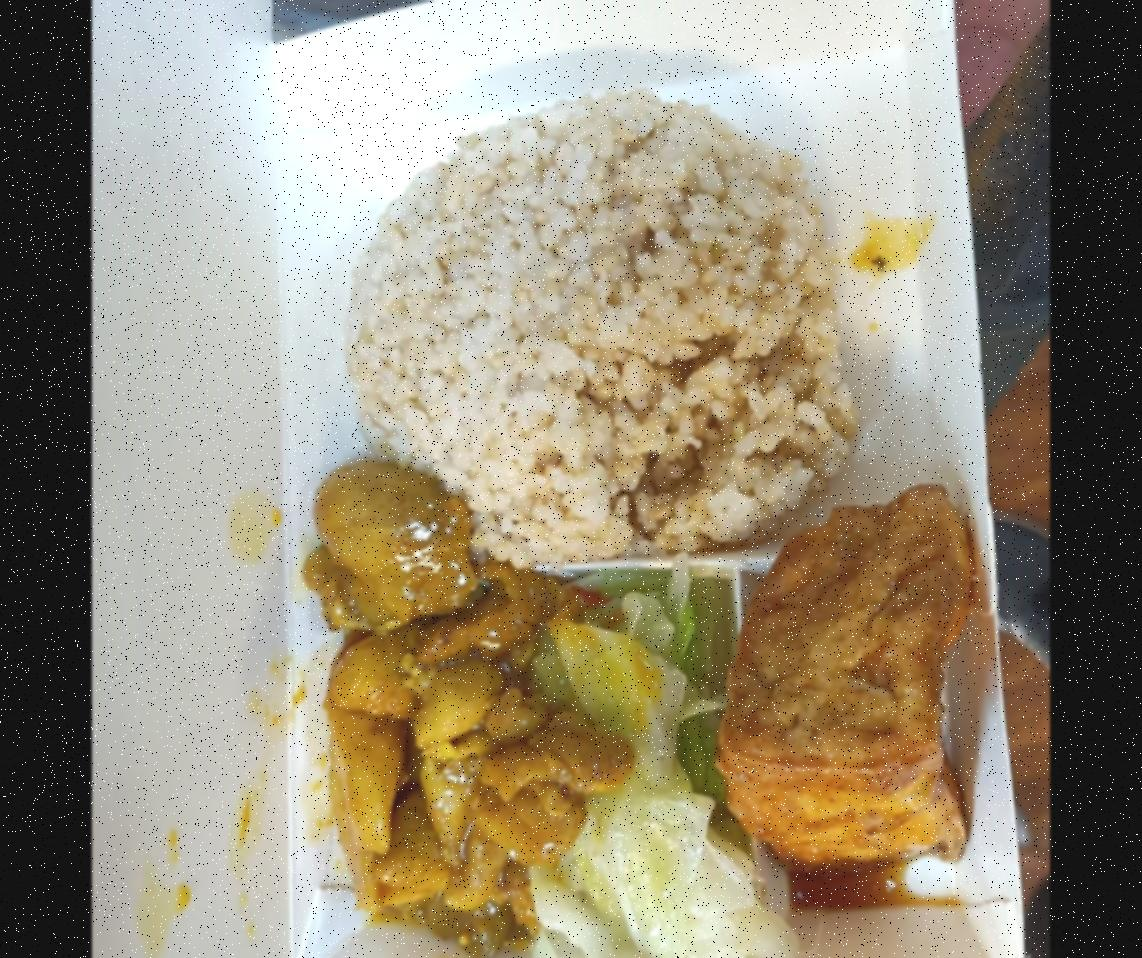box: (226, 0, 1040, 958)
brown rice: (304, 70, 863, 571)
side dish: (291, 462, 592, 958), (702, 467, 996, 904), (496, 551, 772, 958)
